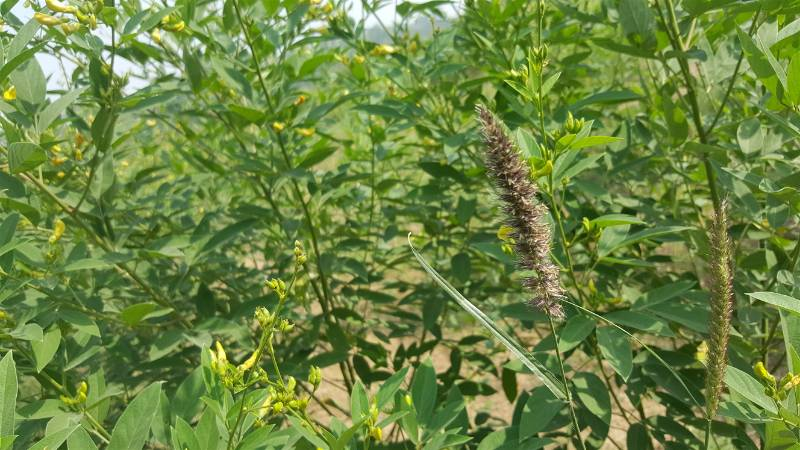plant: (220, 26, 349, 266), (600, 246, 684, 350), (1, 346, 77, 450), (230, 290, 318, 362), (109, 183, 195, 256), (11, 90, 67, 183), (719, 97, 775, 190), (191, 370, 263, 442), (633, 77, 690, 157), (391, 111, 447, 189), (87, 74, 133, 157), (15, 308, 115, 338), (502, 51, 559, 103), (12, 20, 55, 87), (407, 366, 453, 424), (474, 6, 559, 36), (130, 370, 168, 436), (352, 379, 394, 438), (575, 122, 622, 174), (111, 281, 163, 326), (752, 362, 780, 429), (617, 1, 635, 37)
weed: (476, 111, 568, 317), (712, 205, 741, 415)
